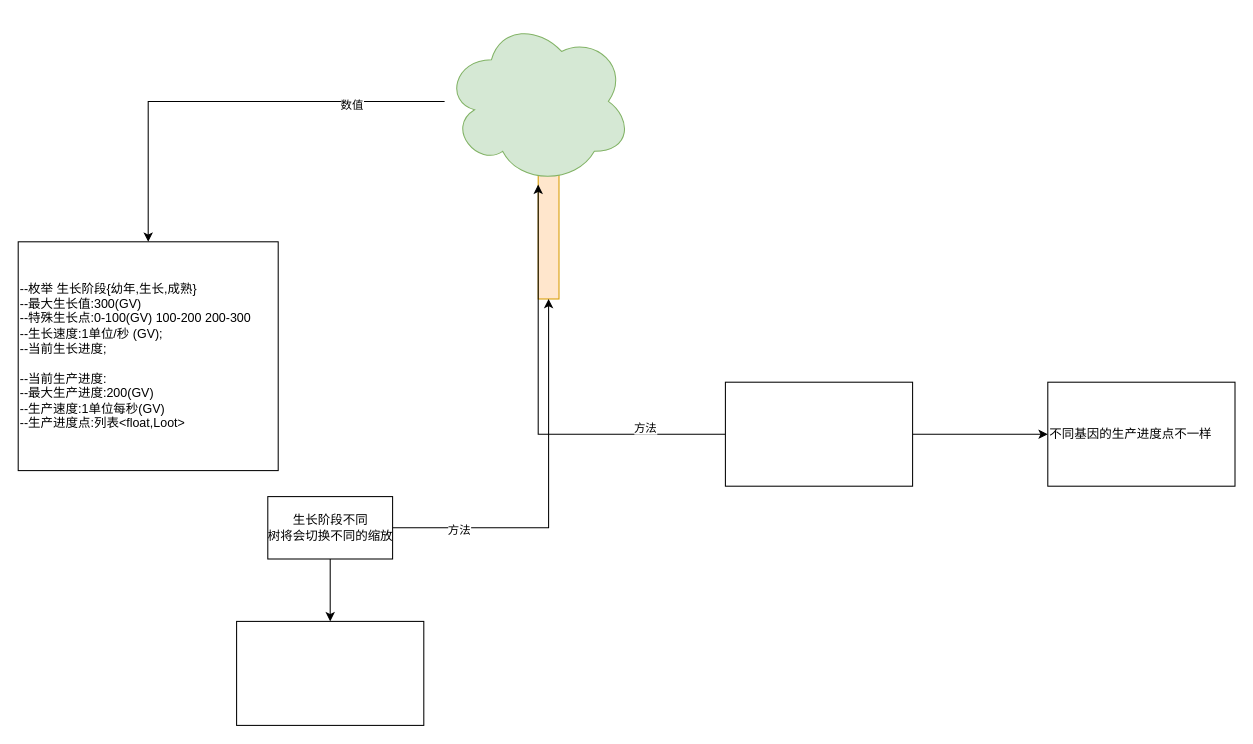
This 1253x744 diagram has some shape labels left out. The box of each missing label's shape, as (x1, y1, x2, y2) in pixels:
--生产进度大于生产进度点时生产出对应的物品: (724, 381, 913, 486)
1 幼年:0.25 2 生长:0.5 3 成熟:1.0: (236, 620, 424, 725)
